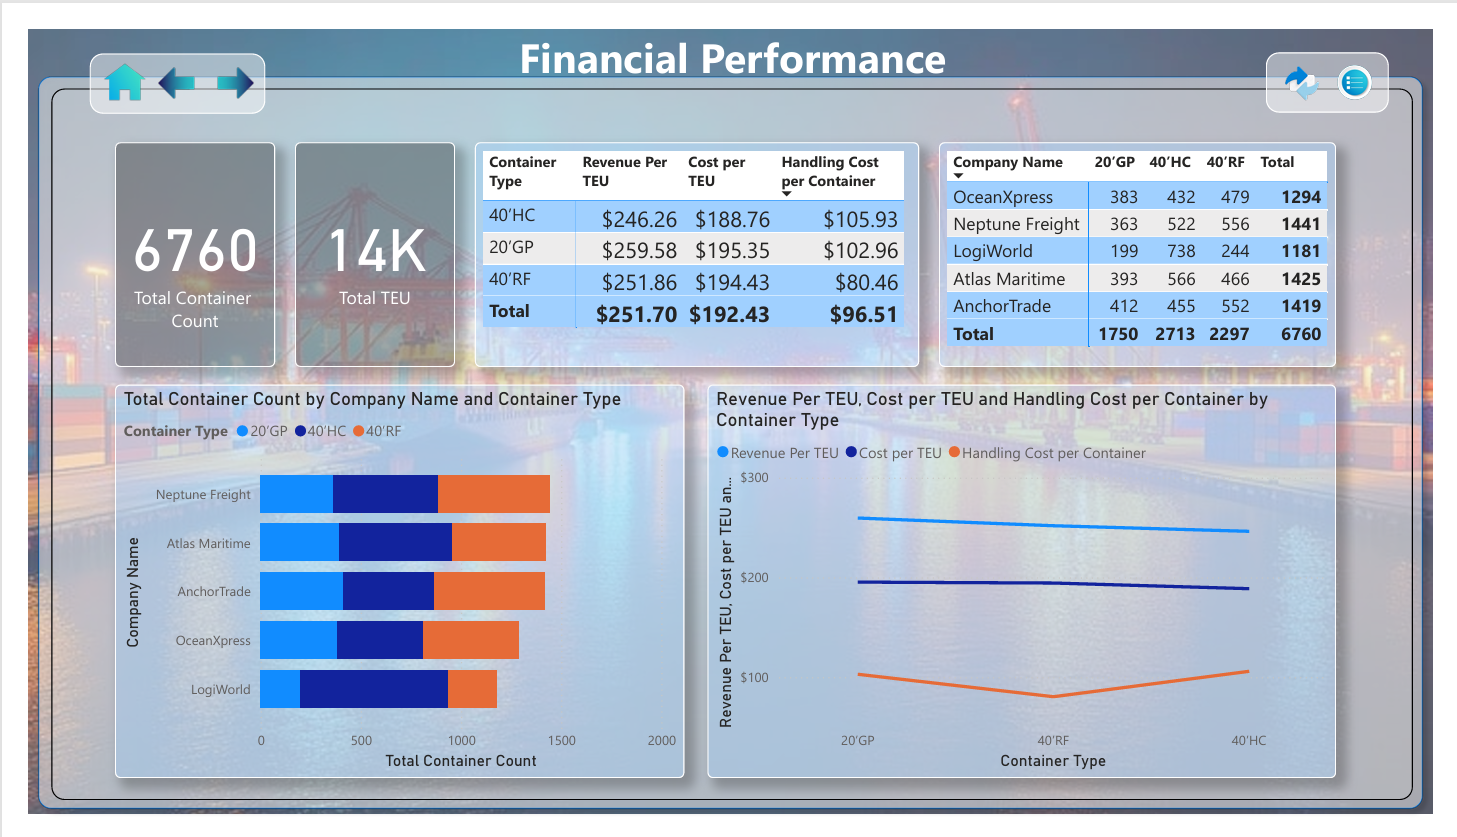

Layout of this report page (visuals, bound fields, positions):
{"tool":"powerbi","page":{"name":"Financial Performance","canvas":[1280,720],"ordinal":2},"visuals":[{"type":"shape","box":[0,34.2,1280.3,686],"z":0},{"type":"shape","box":[20.8,53.8,1241.2,649.3],"z":1000},{"type":"card","fields":{"Values":["Shipping_Data.Total Container Count"]},"box":[79.2,103,145.5,205.4],"z":2000},{"type":"pivotTable","fields":{"Rows":["Shipping_Data.Company Name"],"Columns":["Shipping_Data.Container Type"],"Values":["Sum(Shipping_Data.Container Count)"]},"box":[830.1,103,362,205.4],"z":3000},{"type":"barChart","fields":{"Category":["Shipping_Data.Company Name"],"Y":["Sum(Shipping_Data.Container Count)"],"Series":["Shipping_Data.Container Type"]},"box":[79.2,324.3,518.5,358.3],"z":4000},{"type":"lineChart","fields":{"Y":["Shipping_Data.Revenue Per TEU","Shipping_Data.Cost per TEU","Shipping_Data.Handling Cost per Container"],"Category":["Shipping_Data.Container Type"]},"box":[618.5,324.3,573.5,358.3],"z":5000},{"type":"pivotTable","fields":{"Rows":["Shipping_Data.Container Type"],"Values":["Shipping_Data.Revenue Per TEU","Shipping_Data.Cost per TEU","Shipping_Data.Handling Cost per Container"]},"box":[407,103,404.8,205.4],"z":6000},{"type":"card","fields":{"Values":["Shipping_Data.Total TEU"]},"box":[243.1,103,145.5,205.4],"z":7000},{"type":"shape","box":[1127.5,20.8,112.5,55],"z":8000},{"type":"image","box":[1127.5,22,67.3,53.8],"z":9000},{"type":"shape","box":[56.3,22,160.2,55],"z":10000},{"type":"image","box":[51.4,20.8,72.1,53.8],"z":11000},{"type":"image","box":[157.7,26.9,62.4,44],"z":12000},{"type":"image","box":[103.9,26.9,62.4,44],"z":13000},{"type":"image","box":[1184.2,26.7,48.3,49.2],"z":14000},{"type":"textbox","box":[409.6,0,464.7,74.6],"z":15000}]}

Visuals, with their boxes in screenshot pixels (x1, y1, x2, y2), scaled from the page's 1280x720 canvas onto the 1457x837 screenshot:
shape: bbox(0, 40, 1456, 836)
shape: bbox(24, 63, 1437, 817)
card - Shipping_Data.Total Container Count: bbox(90, 120, 256, 359)
pivotTable - Shipping_Data.Company Name x Shipping_Data.Container Type: bbox(945, 120, 1357, 359)
barChart - Shipping_Data.Company Name x Sum(Shipping_Data.Container Count): bbox(90, 377, 680, 794)
lineChart - Shipping_Data.Revenue Per TEU x Shipping_Data.Cost per TEU: bbox(704, 377, 1357, 794)
pivotTable - Shipping_Data.Container Type x Shipping_Data.Revenue Per TEU: bbox(463, 120, 924, 359)
card - Shipping_Data.Total TEU: bbox(277, 120, 442, 359)
shape: bbox(1283, 24, 1411, 88)
image: bbox(1283, 26, 1360, 88)
shape: bbox(64, 26, 246, 90)
image: bbox(59, 24, 141, 87)
image: bbox(180, 31, 251, 82)
image: bbox(118, 31, 189, 82)
image: bbox(1348, 31, 1403, 88)
textbox: bbox(466, 0, 995, 87)
